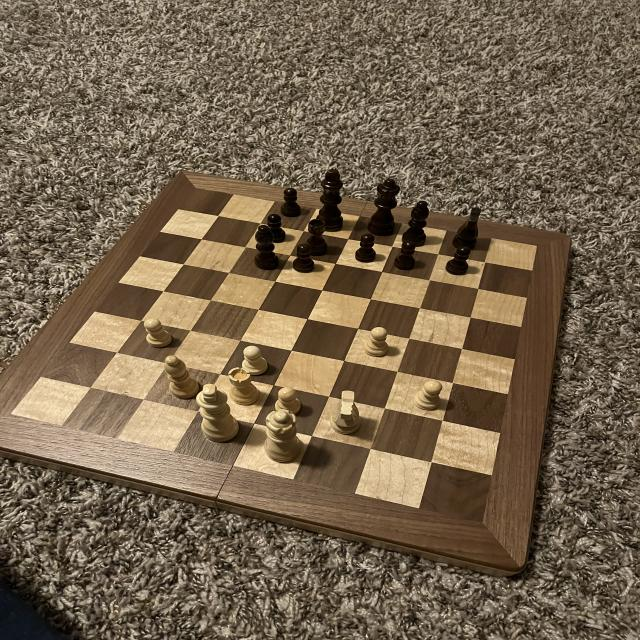bishop: (402, 197, 432, 248), (252, 225, 280, 272)
black-bishop: (316, 165, 348, 233)
black-king: (450, 205, 484, 252)
black-knight: (442, 242, 477, 278), (350, 230, 379, 263), (393, 241, 421, 273), (277, 188, 305, 217), (294, 242, 318, 274), (264, 212, 288, 242)
black-pawn: (366, 176, 402, 240)
black-queen: (303, 219, 332, 256)
black-rook: (162, 352, 202, 400)
white-bishop: (192, 379, 240, 444)
white-king: (326, 388, 366, 436)
white-knight: (142, 316, 174, 351), (271, 386, 306, 418), (412, 378, 444, 412), (363, 325, 393, 361), (239, 343, 271, 376)
white-pawn: (262, 407, 306, 467)
white-queen: (228, 366, 261, 408)
